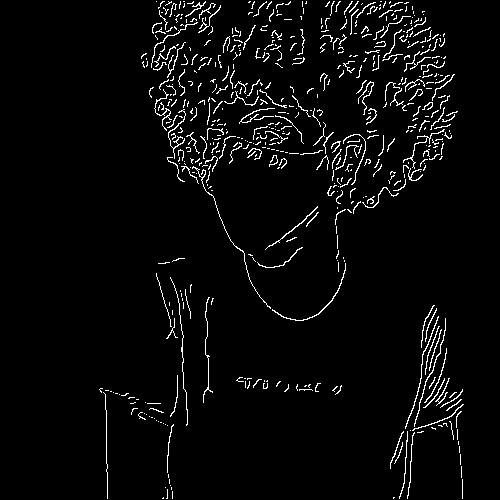mask: (210, 150, 327, 255)
